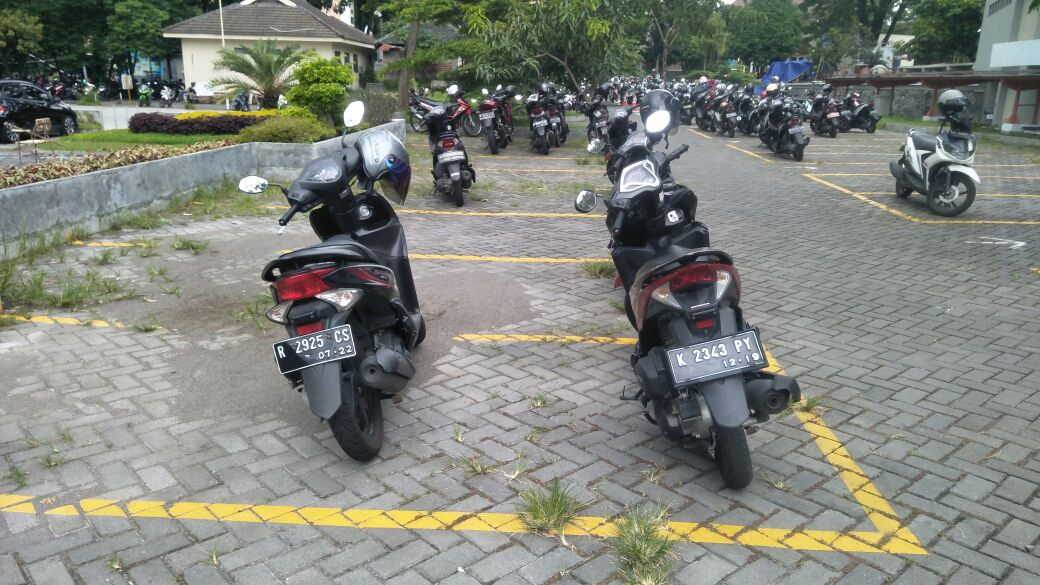plate: (665, 336, 767, 373), (274, 329, 355, 366), (437, 151, 465, 161), (949, 130, 976, 139), (478, 111, 495, 119), (532, 119, 548, 127), (788, 126, 804, 134), (827, 111, 840, 118), (548, 117, 560, 123), (725, 112, 737, 116)
